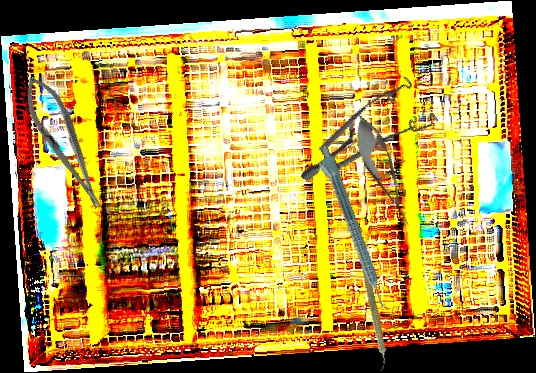Handpiece: (311, 143, 389, 312), (355, 259, 393, 372)
Micro Scissor: (344, 109, 422, 234)
Needle Holder: (13, 69, 115, 217)
Speculum: (300, 56, 449, 222)
